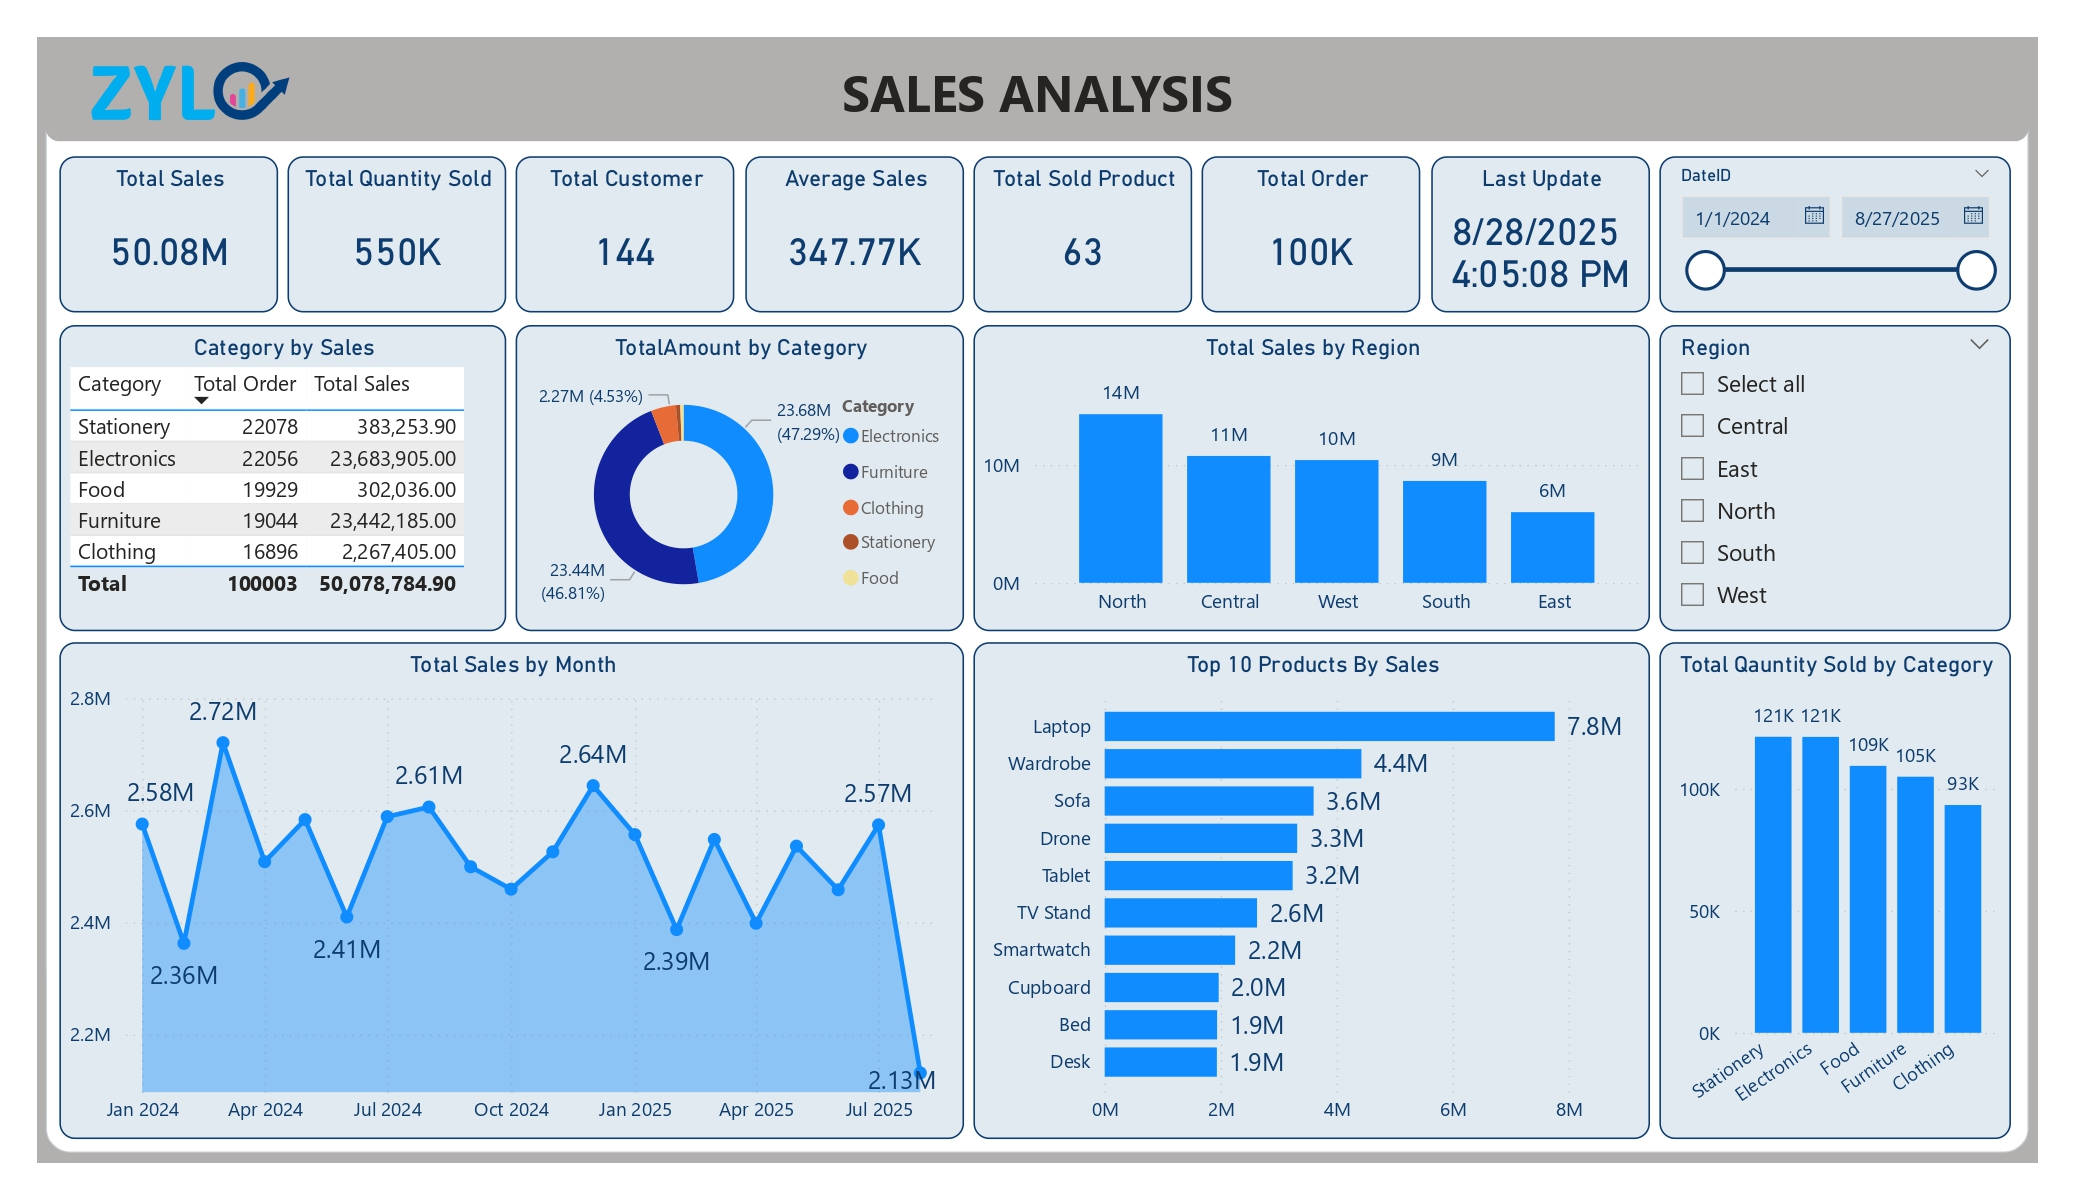

Layout of this report page (visuals, bound fields, positions):
{"tool":"powerbi","page":{"name":"Sales","canvas":[1280,720],"ordinal":0},"visuals":[{"type":"card","title":"Total Sales","fields":{"Values":["FactSales.TotalAmount"]},"box":[13.6,76.4,140,100],"z":0},{"type":"card","title":"Total Quantity Sold","fields":{"Values":["FactSales.Total Qauntity Sold"]},"box":[160,76.4,140,100],"z":1000},{"type":"card","title":"Average Sales","fields":{"Values":["FactSales.Average Sale"]},"box":[452.7,76.4,140,100],"z":2000},{"type":"card","title":"Total Sold Product","fields":{"Values":["FactSales.Total Product"]},"box":[599.1,76.4,140,100],"z":3000},{"type":"card","title":"Total Customer","fields":{"Values":["FactSales.Total Customer"]},"box":[306.4,76.4,140,100],"z":4000},{"type":"clusteredColumnChart","title":"Total Sales by Region","fields":{"Category":["DimCustomers.Region"],"Y":["FactSales.TotalAmount"]},"box":[599.1,183.6,432.7,196.4],"z":5000},{"type":"card","title":"Total Order","fields":{"Values":["FactSales.Total Order"]},"box":[745.5,76.4,140,100],"z":6000},{"type":"tableEx","title":"Category  by Sales","fields":{"Values":["DimProducts.Category","FactSales.Total Order","FactSales.TotalAmount"]},"box":[13.6,183.6,286.4,196.4],"z":7000},{"type":"slicer","fields":{"Values":["DimCustomers.Region"]},"box":[1038.2,183.6,224.5,196.4],"z":8000},{"type":"slicer","fields":{"Values":["FactSales.DateID"]},"box":[1038.2,76.4,224.5,100],"z":9000},{"type":"lineChart","title":"Total Sales by Month","fields":{"Category":["DimDates.Date.Variation.Date Hierarchy.Year","DimDates.Date.Variation.Date Hierarchy.Month"],"Y":["FactSales.TotalAmount"]},"box":[13.6,387.3,579.1,317.3],"z":10000},{"type":"barChart","title":"Top 10 Products By Sales","fields":{"Category":["DimProducts.ProductName"],"Y":["FactSales.TotalAmount"]},"box":[599.1,387.3,432.7,317.3],"z":11000},{"type":"donutChart","fields":{"Category":["DimProducts.Category"],"Y":["FactSales.TotalAmount"]},"box":[306.4,183.6,286.4,196.4],"z":12000},{"type":"clusteredColumnChart","fields":{"Category":["DimProducts.Category"],"Y":["FactSales.Total Qauntity Sold"]},"box":[1038.2,387.3,224.5,317.3],"z":13000},{"type":"card","title":"Last Update","fields":{"Values":["FactSales.LastUpdate"]},"box":[891.8,76.4,140,100],"z":14000},{"type":"textbox","box":[505.5,8.2,269.1,60],"z":15000}]}

Visuals, with their boxes in screenshot pixels (x1, y1, x2, y2):
"Total Sales" card: [left=59, top=157, right=278, bottom=313]
"Total Quantity Sold" card: [left=288, top=157, right=506, bottom=313]
"Average Sales" card: [left=745, top=157, right=964, bottom=313]
"Total Sold Product" card: [left=974, top=157, right=1192, bottom=313]
"Total Customer" card: [left=516, top=157, right=735, bottom=313]
"Total Sales by Region" clusteredColumnChart: [left=974, top=324, right=1650, bottom=631]
"Total Order" card: [left=1202, top=157, right=1421, bottom=313]
"Category  by Sales" tableEx: [left=59, top=324, right=506, bottom=631]
slicer - DimCustomers.Region: [left=1660, top=324, right=2010, bottom=631]
slicer - FactSales.DateID: [left=1660, top=157, right=2010, bottom=313]
"Total Sales by Month" lineChart: [left=59, top=643, right=964, bottom=1138]
"Top 10 Products By Sales" barChart: [left=974, top=643, right=1650, bottom=1138]
donutChart - DimProducts.Category x FactSales.TotalAmount: [left=516, top=324, right=964, bottom=631]
clusteredColumnChart - DimProducts.Category x FactSales.Total Qauntity Sold: [left=1660, top=643, right=2010, bottom=1138]
"Last Update" card: [left=1431, top=157, right=1650, bottom=313]
textbox: [left=827, top=50, right=1248, bottom=144]
